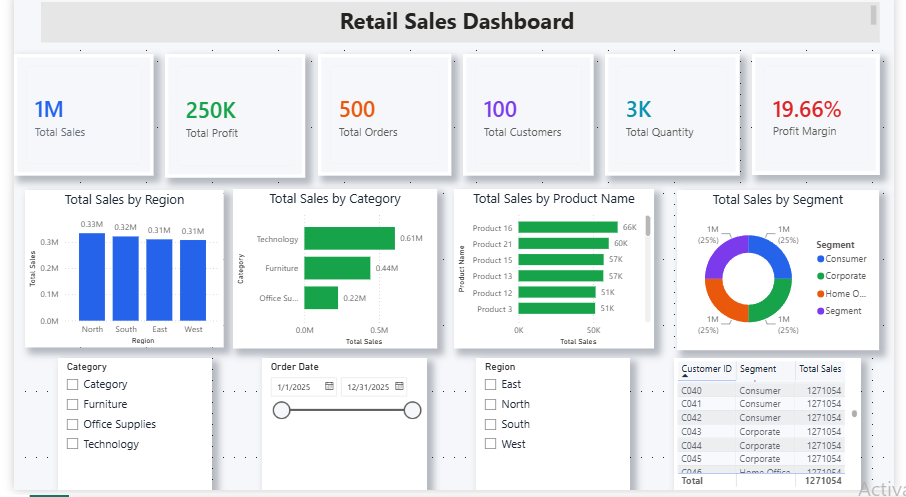

Layout of this report page (visuals, bound fields, positions):
{"tool":"powerbi","page":{"name":"Page 1","canvas":[1280,720],"ordinal":0},"visuals":[{"type":"textbox","box":[39.5,0,1018.5,101],"z":0},{"type":"cardVisual","fields":{"Data":["Customers.Total Sales"]},"box":[39.5,84.9,216.6,169.8],"z":1000},{"type":"cardVisual","fields":{"Data":["Customers.Total Profit"]},"box":[276,84.9,200.5,165.4],"z":2000},{"type":"cardVisual","fields":{"Data":["Customers.Total Orders"]},"box":[496.4,84.9,182.9,149.3],"z":3000},{"type":"cardVisual","fields":{"Data":["Customers.Total Customers"]},"box":[699.2,84.9,175.6,140.5],"z":4000},{"type":"cardVisual","fields":{"Data":["Customers.Total Quantity"]},"box":[894.7,84.9,181.5,144.9],"z":5000},{"type":"cardVisual","fields":{"Data":["Customers.Profit Margin"]},"box":[1095.6,84.9,184.4,161],"z":6000},{"type":"clusteredColumnChart","fields":{"Category":["Orders.Region"],"Y":["Customers.Total Sales"]},"box":[17.6,254.6,289.8,228.3],"z":7000},{"type":"clusteredBarChart","fields":{"Category":["Product.Category"],"Y":["Customers.Total Sales"]},"box":[354.1,262,297.1,232.7],"z":8000},{"type":"clusteredBarChart","fields":{"Category":["Product.Product Name"],"Y":["Customers.Total Sales"]},"box":[668.8,267.8,282.4,221],"z":9000},{"type":"donutChart","fields":{"Y":["Customers.Total Sales"],"Category":["Customers.Segment"]},"box":[989.5,267.6,290.5,234.2],"z":10000},{"type":"slicer","fields":{"Values":["Orders.Region"]},"box":[818,526.8,150.7,181.5],"z":11000},{"type":"slicer","fields":{"Values":["Product.Category"]},"box":[73.2,538.5,222.4,181.5],"z":12000},{"type":"slicer","fields":{"Values":["Orders.Order Date"]},"box":[449.3,526.8,257.6,181.5],"z":13000},{"type":"tableEx","fields":{"Values":["Customers.Customer ID","Customers.Segment","Customers.Total Sales"]},"box":[1000,501.4,268.6,190],"z":13001}]}

Visuals, with their boxes in screenshot pixels (x1, y1, x2, y2), scaled from the page's 1280x720 canvas onto the 906x497 screenshot:
textbox: bbox=(28, 0, 749, 70)
cardVisual - Customers.Total Sales: bbox=(28, 59, 181, 176)
cardVisual - Customers.Total Profit: bbox=(195, 59, 337, 173)
cardVisual - Customers.Total Orders: bbox=(351, 59, 481, 162)
cardVisual - Customers.Total Customers: bbox=(495, 59, 619, 156)
cardVisual - Customers.Total Quantity: bbox=(633, 59, 762, 159)
cardVisual - Customers.Profit Margin: bbox=(775, 59, 905, 170)
clusteredColumnChart - Orders.Region x Customers.Total Sales: bbox=(12, 176, 218, 333)
clusteredBarChart - Product.Category x Customers.Total Sales: bbox=(251, 181, 461, 341)
clusteredBarChart - Product.Product Name x Customers.Total Sales: bbox=(473, 185, 673, 337)
donutChart - Customers.Total Sales x Customers.Segment: bbox=(700, 185, 905, 346)
slicer - Orders.Region: bbox=(579, 364, 686, 489)
slicer - Product.Category: bbox=(52, 372, 209, 496)
slicer - Orders.Order Date: bbox=(318, 364, 500, 489)
tableEx - Customers.Customer ID x Customers.Segment: bbox=(708, 346, 898, 477)
